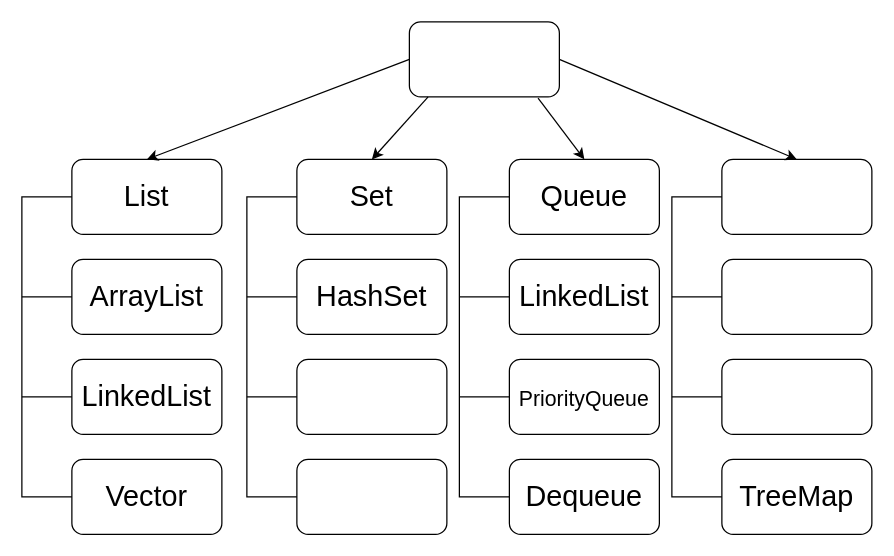
Image size: 894x556. Some labels were removed from this diagram. The shapes that lost their labels are listed below. From the top down, each one's box as (x1, y1, x2, y2) in pixels, then its label:
(408, 21, 559, 97): Collection
(721, 158, 872, 234): Map
(721, 258, 872, 334): HashMap
(296, 358, 447, 434): LinkedHashSet
(721, 358, 872, 434): HashTable
(296, 458, 447, 534): TreeSet
